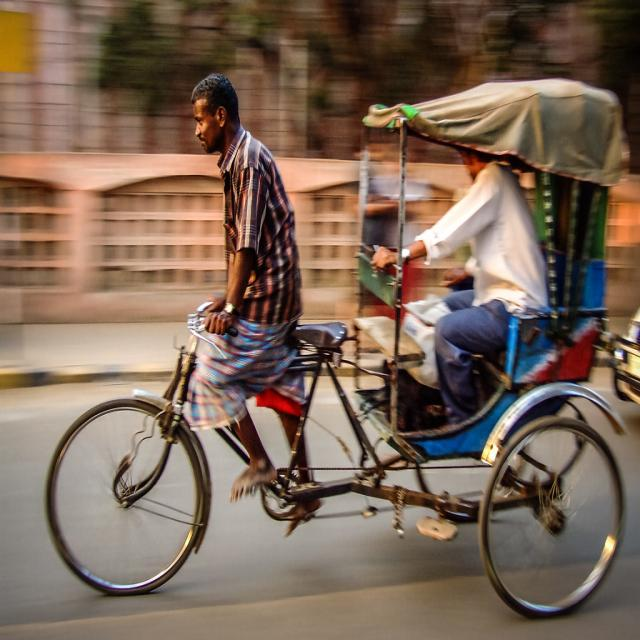bicycle: (46, 75, 625, 617)
